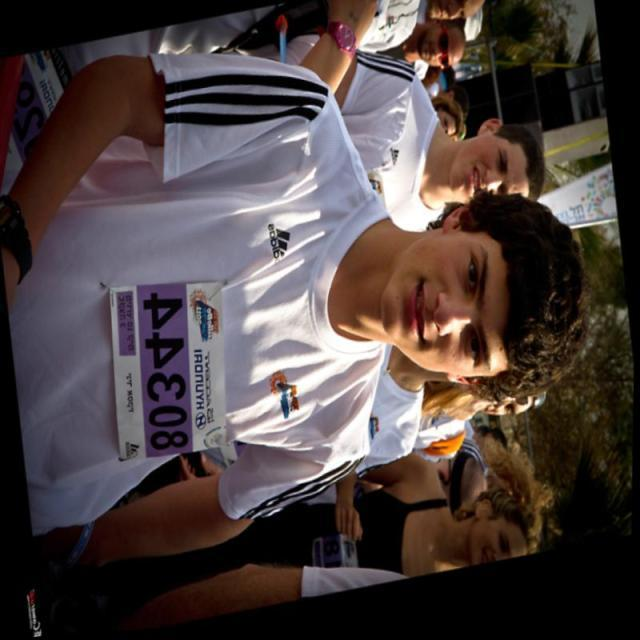dorsal: (88, 249, 245, 494)
